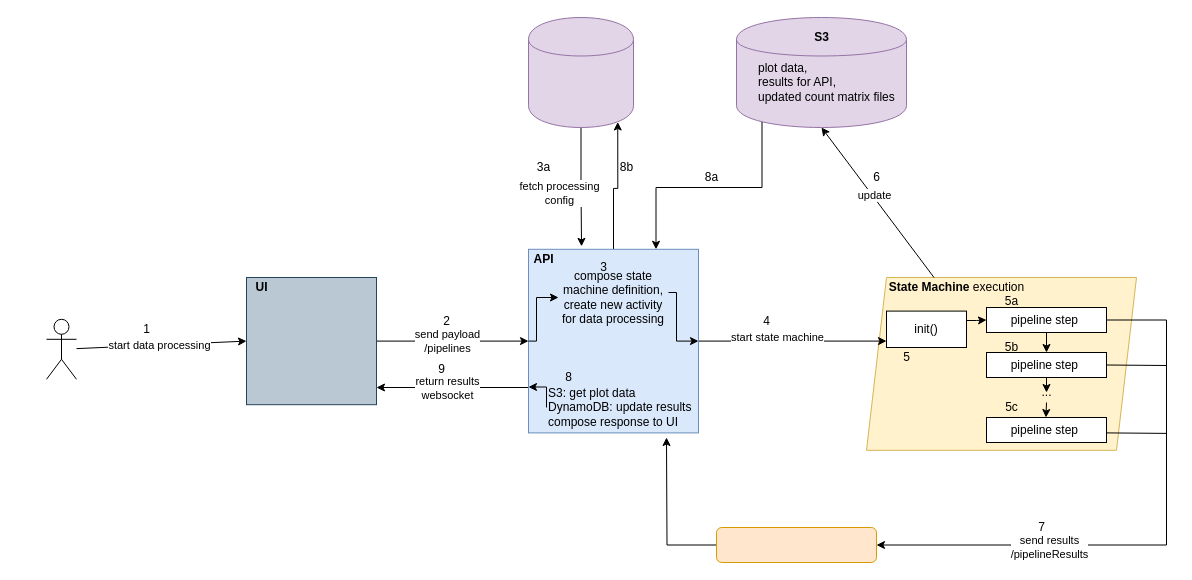
This 1192x580 diagram has some shape labels left out. Each missing label, with the centre of its shape:
"DynamoDB Cell clusters, sample info, QC config." belongs at (581,72).
"SNS" belongs at (796,544).
"User starts Data Processing" belongs at (61,348).
